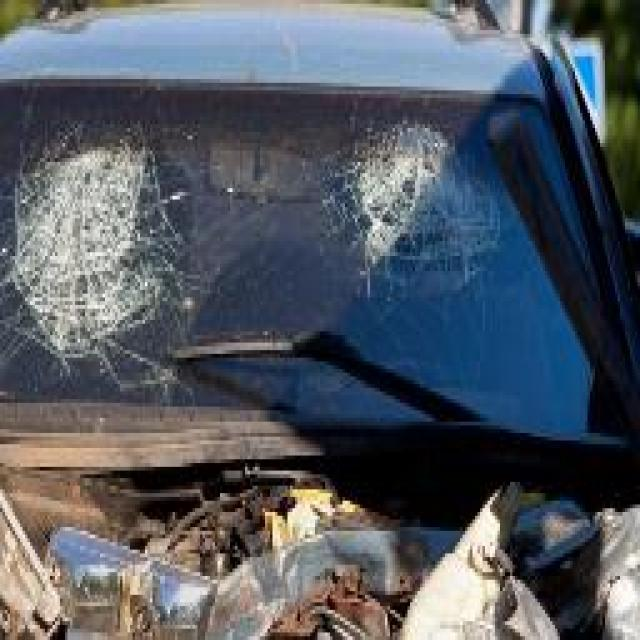Windshield: (0, 79, 640, 459)
